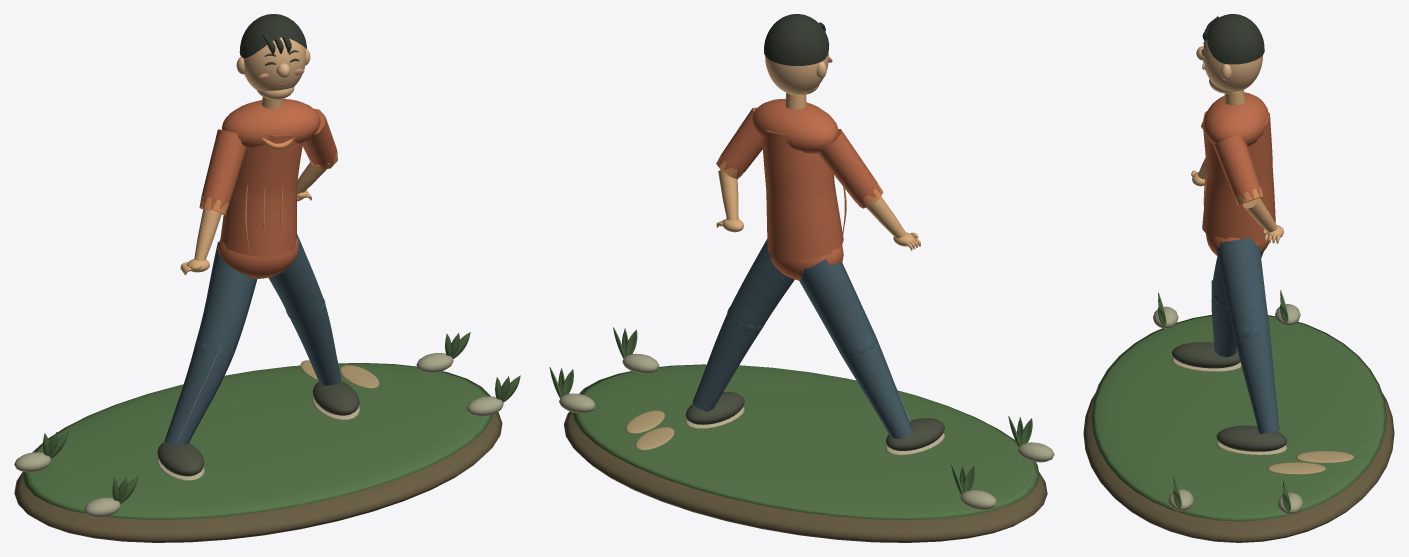
Rendered from person.glb.
3 views of the same model, side by side, from view 1: azimuth 30°, elevation 25°; view 2: azimuth 150°, elevation 25°; view 3: azimuth 270°, elevation 25° (orthographic). The views are drawn at different scales.
Parts seen in each view (by area): view 1: person_surface_01, person_surface_03, person_surface_00, person_surface_10, person_surface_05, person_surface_11, person_surface_02, person_surface_06, person_surface_04, person_surface_09, person_surface_14; view 2: person_surface_01, person_surface_03, person_surface_10, person_surface_00, person_surface_06, person_surface_04, person_surface_02, person_surface_11, person_surface_05, person_surface_14, person_surface_12; view 3: person_surface_01, person_surface_03, person_surface_10, person_surface_00, person_surface_11, person_surface_06, person_surface_05, person_surface_02, person_surface_04, person_surface_14, person_surface_12.
Part boxes in pixels (<box>): person_surface_01: <box>22,332,520,519</box>; person_surface_03: <box>200,99,336,278</box>; person_surface_00: <box>14,412,502,542</box>; person_surface_10: <box>164,234,341,445</box>; person_surface_05: <box>236,37,310,99</box>; person_surface_11: <box>157,381,359,476</box>; person_surface_02: <box>14,353,503,517</box>; person_surface_06: <box>239,14,307,65</box>; person_surface_04: <box>180,97,326,274</box>; person_surface_09: <box>199,129,337,253</box>; person_surface_14: <box>300,360,379,388</box>; person_surface_01: <box>549,327,1039,519</box>; person_surface_03: <box>718,99,882,280</box>; person_surface_10: <box>692,239,912,438</box>; person_surface_00: <box>564,411,1047,542</box>; person_surface_06: <box>764,14,829,65</box>; person_surface_04: <box>716,93,920,250</box>; person_surface_02: <box>559,353,1054,509</box>; person_surface_11: <box>685,392,944,450</box>; person_surface_05: <box>765,52,828,94</box>; person_surface_14: <box>625,410,674,450</box>; person_surface_12: <box>685,406,944,455</box>; person_surface_01: <box>1091,290,1386,521</box>; person_surface_03: <box>1202,92,1275,255</box>; person_surface_10: <box>1211,238,1279,433</box>; person_surface_00: <box>1083,393,1394,542</box>; person_surface_11: <box>1172,342,1286,451</box>; person_surface_06: <box>1201,14,1264,64</box>; person_surface_05: <box>1196,38,1262,93</box>; person_surface_02: <box>1153,304,1303,514</box>; person_surface_04: <box>1191,90,1283,243</box>; person_surface_14: <box>1267,451,1354,474</box>; person_surface_12: <box>1172,358,1287,455</box>.
Size of the model in its own units: 4 by 3.8 by 2.42.
